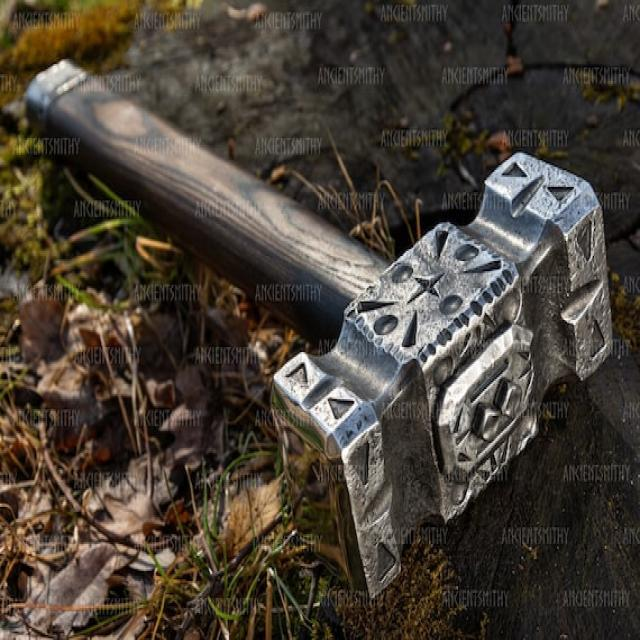hammer: (16, 45, 623, 598)
